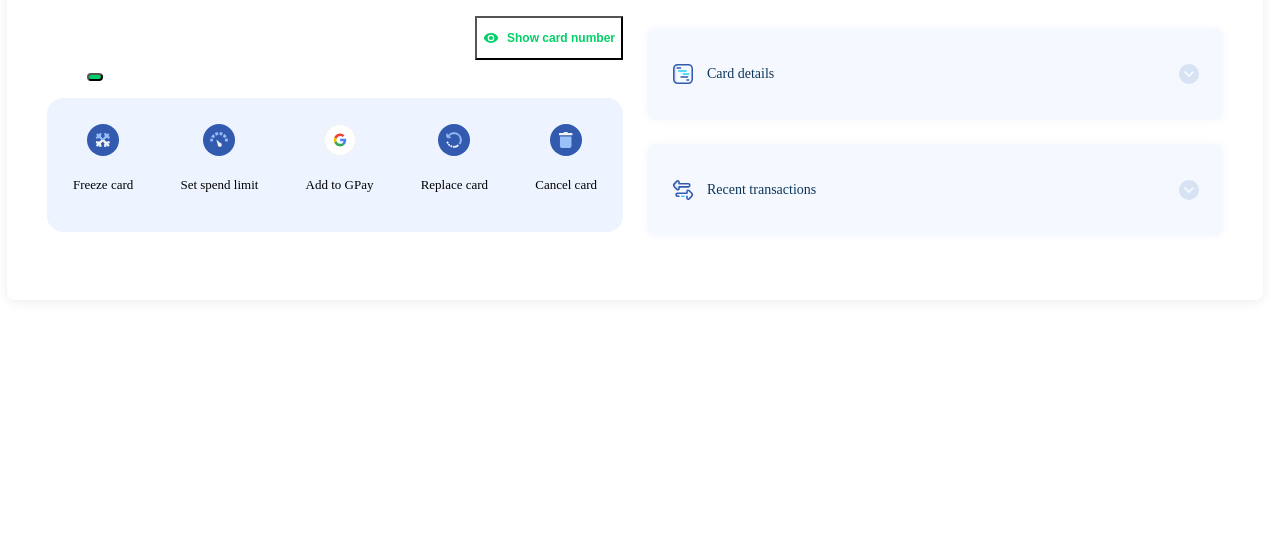
Test: MyDebitCards.vue › displays the correct card details
Click the picture with class "arrow-icon" in the row of "Card details".
click(1189, 74)  # box [1179,64,1199,84]
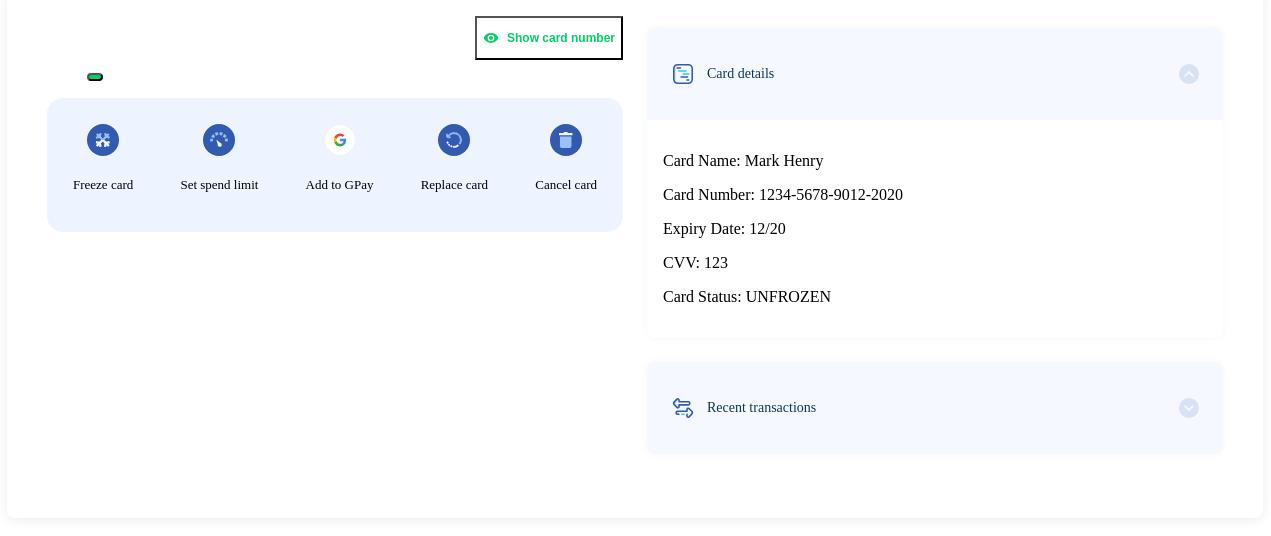
Expected: the text "Card Name: Mark Henry" is shown, [663,152,823,169]
Expected: the text "Card Number: 1234-5678-9012-2020" is shown, [663,186,903,203]
Expected: the text "Expiry Date: 12/20" is shown, [663,220,786,237]
